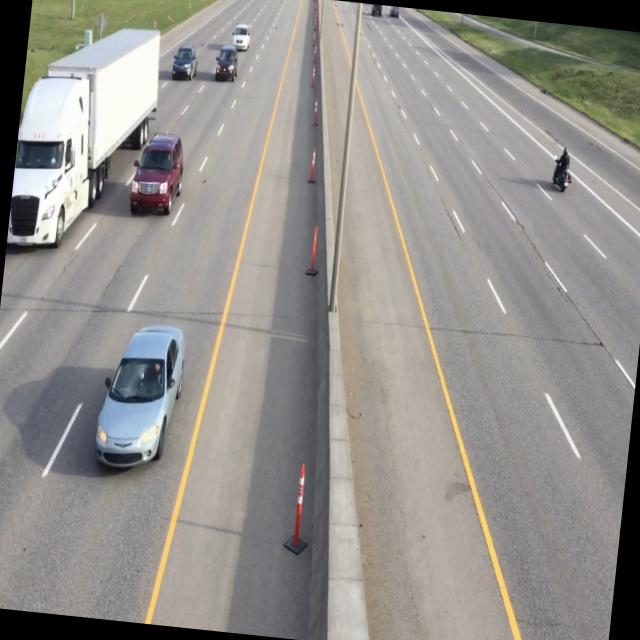Vehicle: (6, 10, 167, 264), (92, 316, 192, 478), (128, 131, 186, 222), (168, 40, 198, 84), (213, 42, 240, 84), (228, 18, 256, 53)
